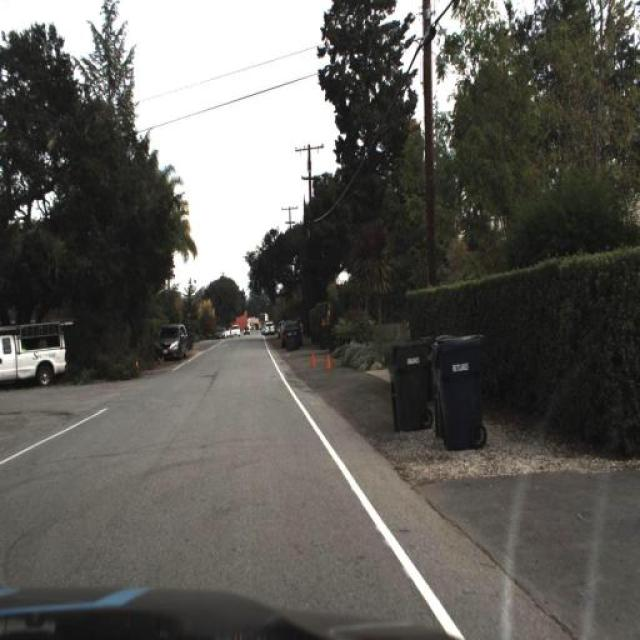car: (0, 314, 70, 392), (154, 316, 188, 360)
